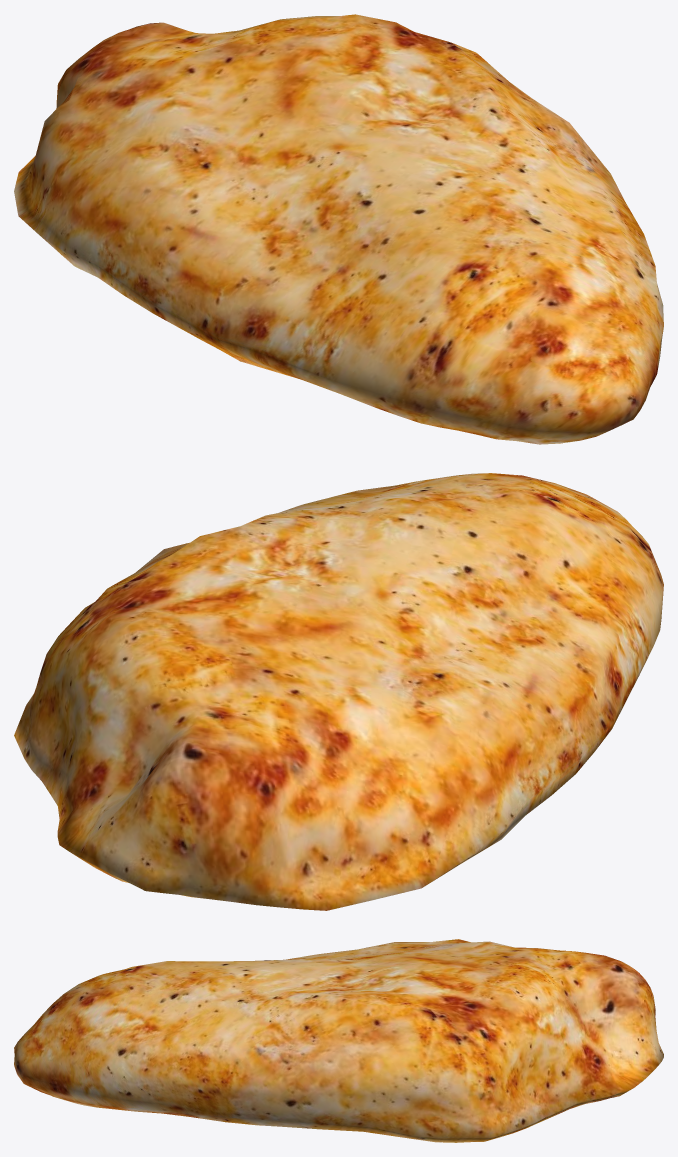
Rendered from chicken-cooked.glb.
The picture shows the model from 3 angles, top to bottom: view 1: azimuth 30°, elevation 25°; view 2: azimuth 150°, elevation 25°; view 3: azimuth 270°, elevation 25°; orthographic projection. The views are drawn at different scales.
Parts seen in each view (by area): view 1: Chiken_Fried.001_0; view 2: Chiken_Fried.001_0; view 3: Chiken_Fried.001_0.
Boxes of the visible parts, bbox=[...] form: Chiken_Fried.001_0: bbox=[14, 14, 663, 444]; Chiken_Fried.001_0: bbox=[14, 473, 663, 910]; Chiken_Fried.001_0: bbox=[14, 939, 663, 1142].
Size of the model in its own units: 0.1167 by 0.0496 by 0.2019.
1 material, 1 textured.
